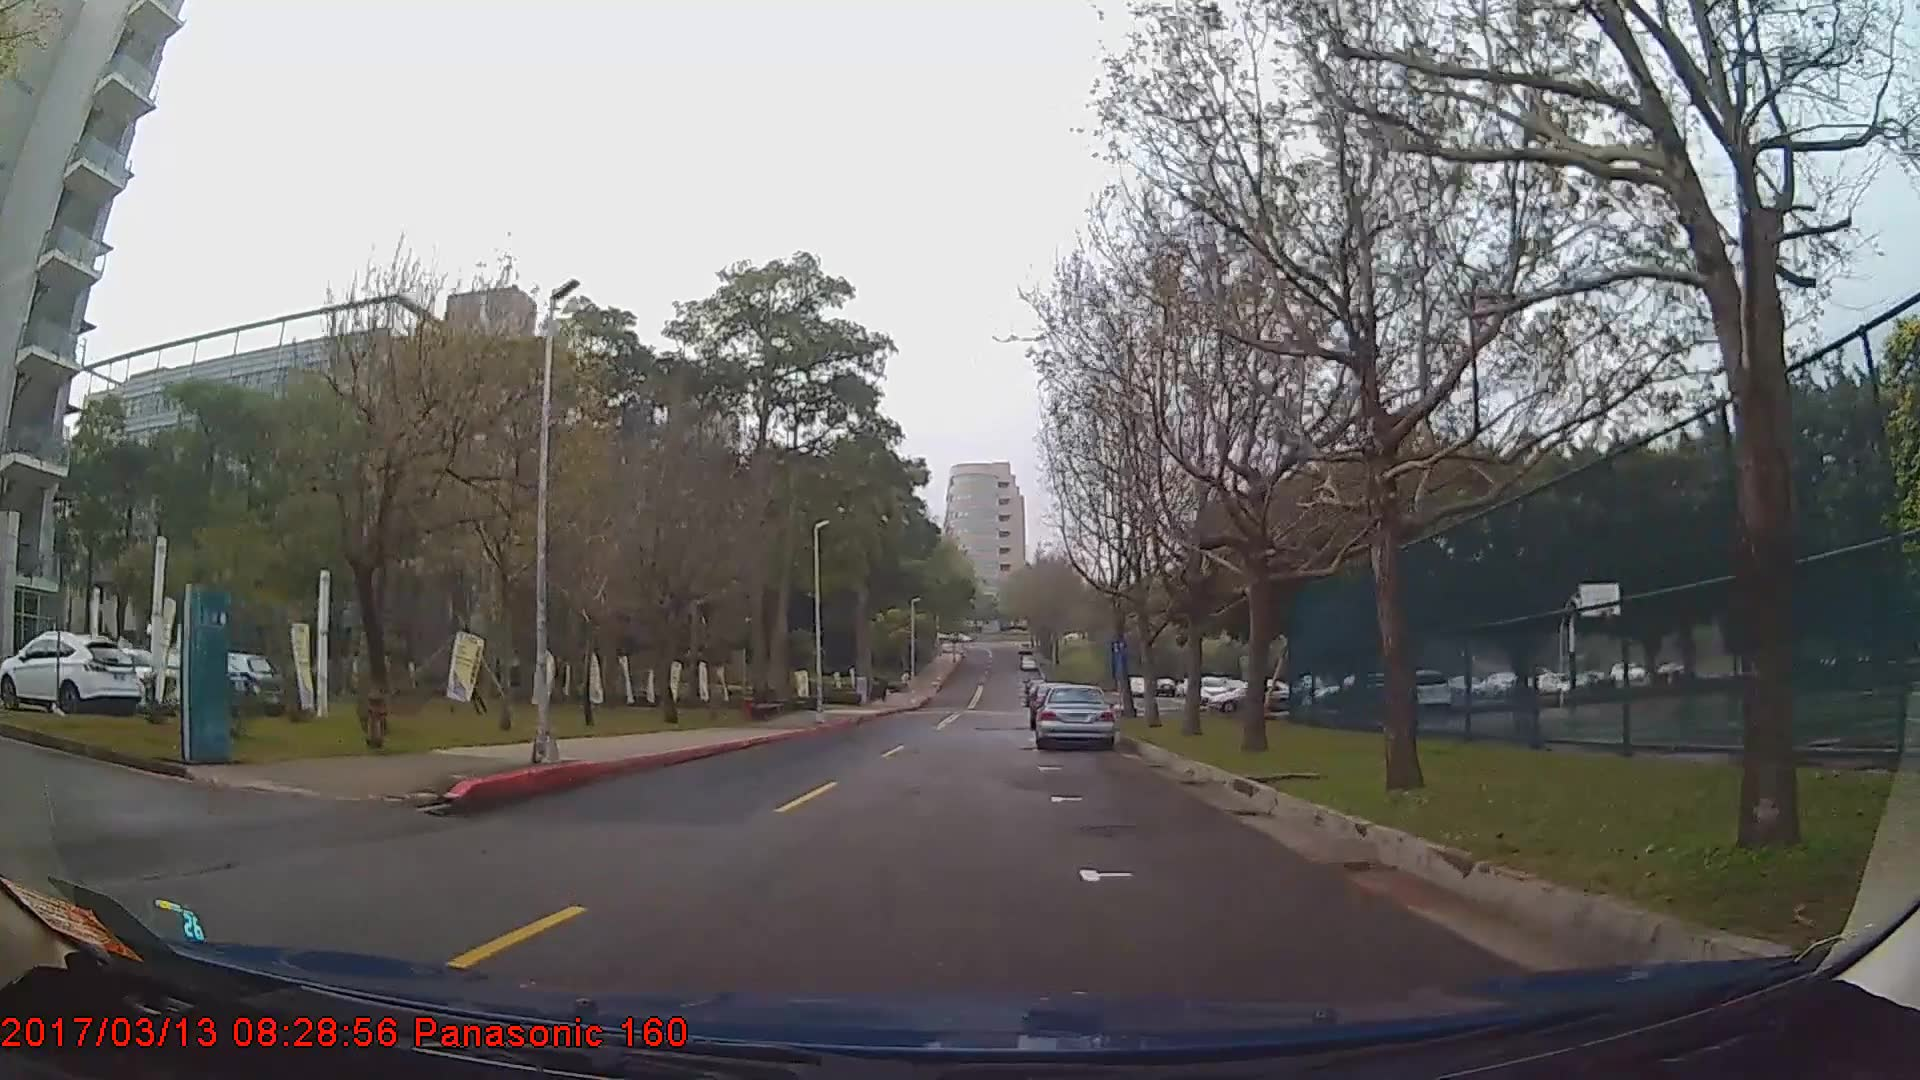vehicle: (3, 630, 138, 716), (61, 644, 185, 711), (1035, 684, 1116, 752)
